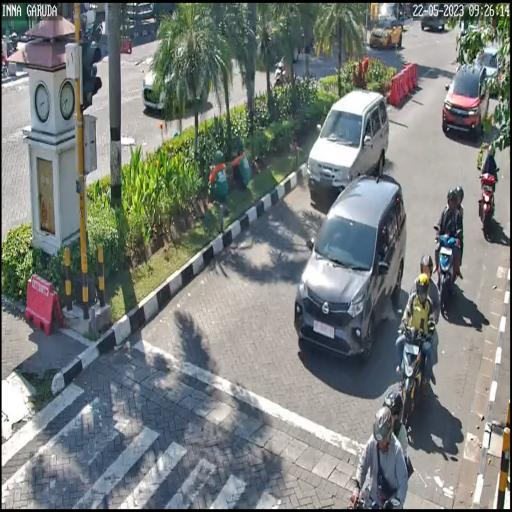mobil: (290, 164, 410, 374), (304, 82, 394, 208), (443, 54, 490, 149)
motor: (394, 306, 440, 426), (430, 222, 464, 310), (475, 171, 497, 244)
